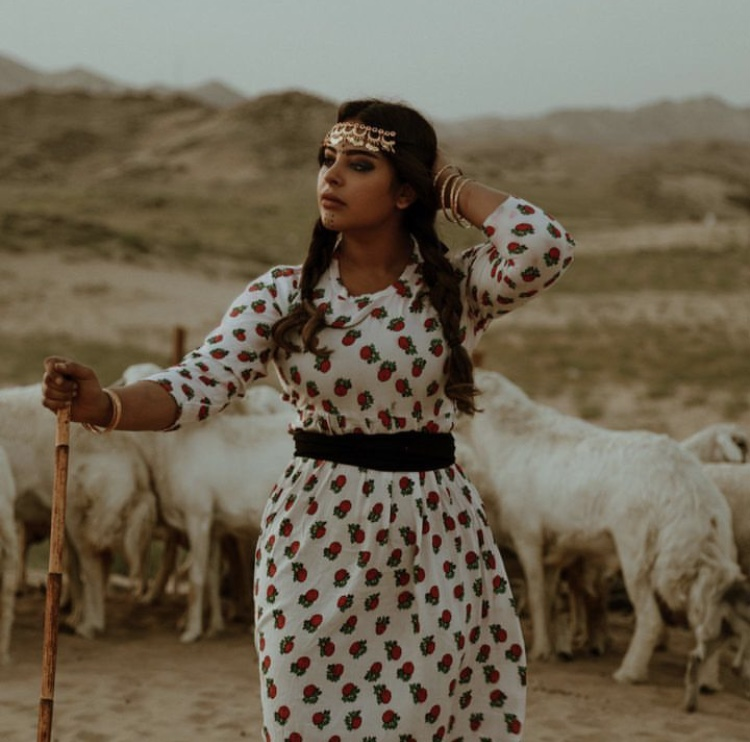Saudi_Founding_Day: (40, 95, 580, 742)
